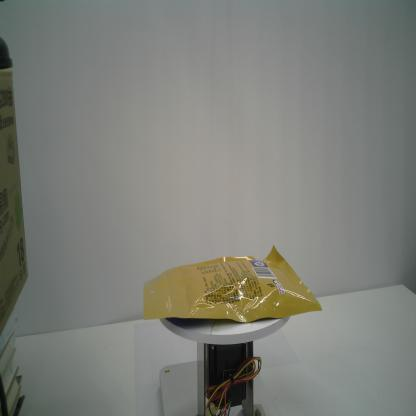Dried Fruit: (142, 244, 323, 322)
